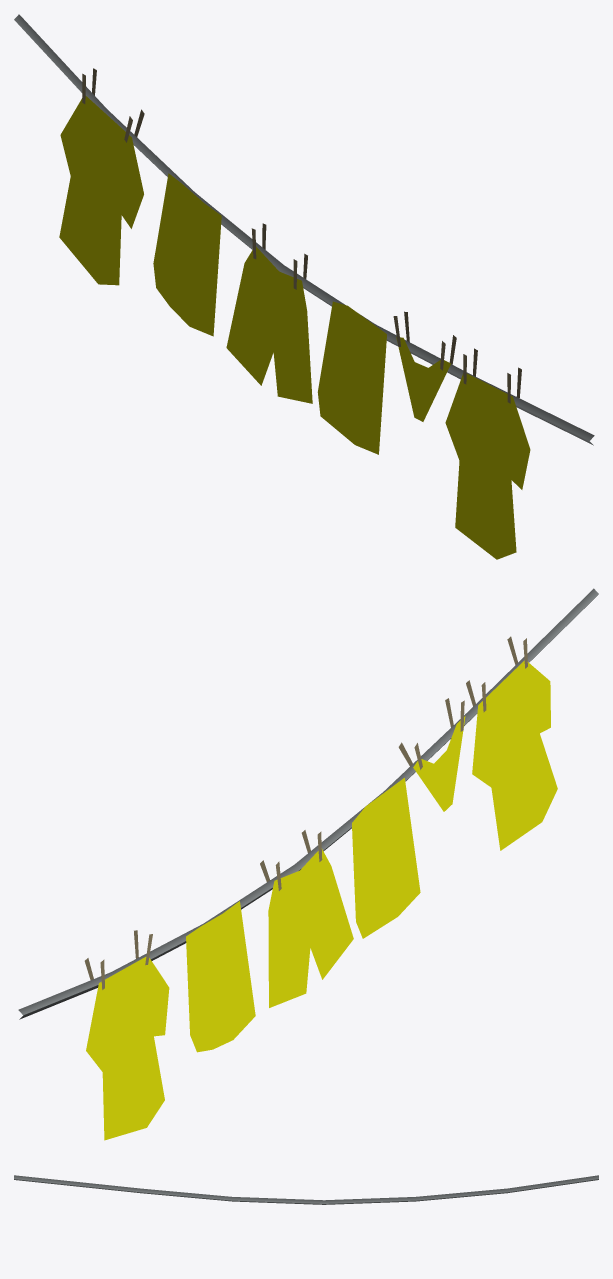
The model's file is ClothesLine02.glb.
3 renders of one model, top to bottom at view 1: azimuth 30°, elevation 25°; view 2: azimuth 150°, elevation 25°; view 3: azimuth 270°, elevation 25°, orthographic. The views are drawn at different scales.
Visible parts, largest first — view 1: ClothesLine02; view 2: ClothesLine02; view 3: ClothesLine02.
Part boxes in pixels (x1,y1,x2,y2): ClothesLine02: (14,14,594,559); ClothesLine02: (18,588,598,1140); ClothesLine02: (14,1175,598,1204).
Size of the model in its own units: 0.3102 by 1.95 by 10.39.
Materials: 2 (1 with a texture image).
